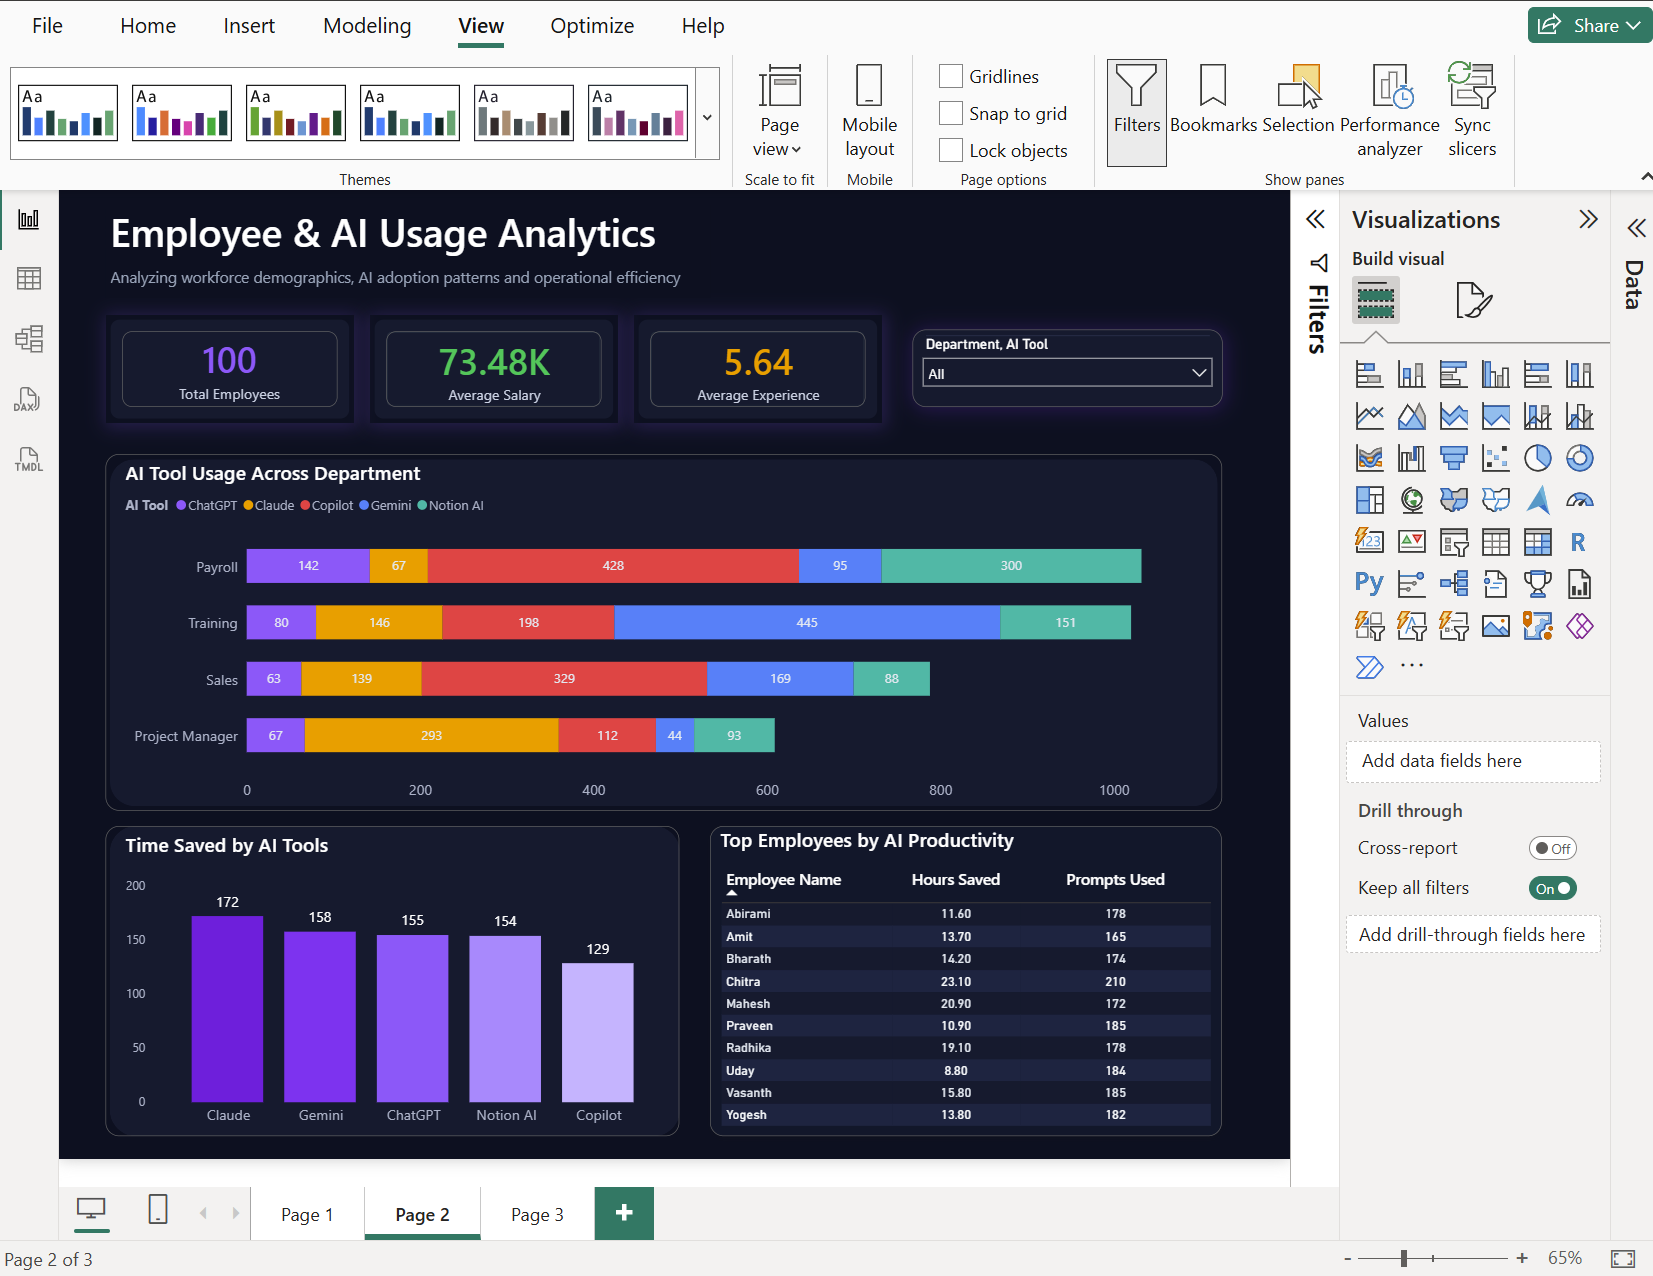

The page's visual inventory and layout, read from the dashboard file:
{"tool":"powerbi","page":{"name":"Page 2","canvas":[1270,1000],"ordinal":1},"visuals":[{"type":"shape","box":[0,8,1264,992],"z":0},{"type":"shape","box":[880,144,320,80],"z":1000},{"type":"shape","box":[32,656,608,320],"z":2000},{"type":"shape","box":[32,272,1168,368],"z":3000},{"type":"cardVisual","fields":{"Data":["CountNonNull(EMPLOYEES.EmployeeID)"]},"box":[48,128,256,112],"z":4000},{"type":"cardVisual","fields":{"Data":["Avg(EMPLOYEES.Salary)"]},"box":[320,128,256,112],"z":5000},{"type":"barChart","title":"AI Tool Usage Across Department","fields":{"Category":["EMPLOYEES.Department"],"Y":["AI_Usage.Total Prompts Used"],"Series":["AI_Usage.AI Tool"]},"box":[48,272,1152,368],"z":6000},{"type":"tableEx","title":"Top Employees by AI Productivity","fields":{"Values":["EMPLOYEES.EmployeeName","Sum(AI_Usage.TimeSavedHours)","AI_Usage.Total Prompts Used"]},"box":[672,656,528,320],"z":7000},{"type":"clusteredColumnChart","title":"Time Saved by AI Tools","fields":{"Category":["AI_Usage.AI Tool"],"Y":["Sum(AI_Usage.TimeSavedHours)"]},"box":[48,656,592,320],"z":8000},{"type":"slicer","title":"de","fields":{"Values":["EMPLOYEES.Department","AI_Usage.AI Tool"]},"box":[880,144,320,80],"z":9000},{"type":"cardVisual","fields":{"Data":["Avg(EMPLOYEES.ExperienceYears)"]},"box":[592,128,256,112],"z":10000},{"type":"textbox","title":"Employee & AI Usage Analytics","box":[48,16,624,96],"z":11000}]}

Visuals, with their boxes on the page's 1270x1000 design canvas (x1, y1, x2, y2). These are canvas units, not pixel positions in the 1653x1276 screenshot, which may show the page scaled, cropped or inside an application window:
shape: {"x1": 0, "y1": 8, "x2": 1264, "y2": 1000}
shape: {"x1": 880, "y1": 144, "x2": 1200, "y2": 224}
shape: {"x1": 32, "y1": 656, "x2": 640, "y2": 976}
shape: {"x1": 32, "y1": 272, "x2": 1200, "y2": 640}
cardVisual - CountNonNull(EMPLOYEES.EmployeeID): {"x1": 48, "y1": 128, "x2": 304, "y2": 240}
cardVisual - Avg(EMPLOYEES.Salary): {"x1": 320, "y1": 128, "x2": 576, "y2": 240}
"AI Tool Usage Across Department" barChart: {"x1": 48, "y1": 272, "x2": 1200, "y2": 640}
"Top Employees by AI Productivity" tableEx: {"x1": 672, "y1": 656, "x2": 1200, "y2": 976}
"Time Saved by AI Tools" clusteredColumnChart: {"x1": 48, "y1": 656, "x2": 640, "y2": 976}
"de" slicer: {"x1": 880, "y1": 144, "x2": 1200, "y2": 224}
cardVisual - Avg(EMPLOYEES.ExperienceYears): {"x1": 592, "y1": 128, "x2": 848, "y2": 240}
"Employee & AI Usage Analytics" textbox: {"x1": 48, "y1": 16, "x2": 672, "y2": 112}
